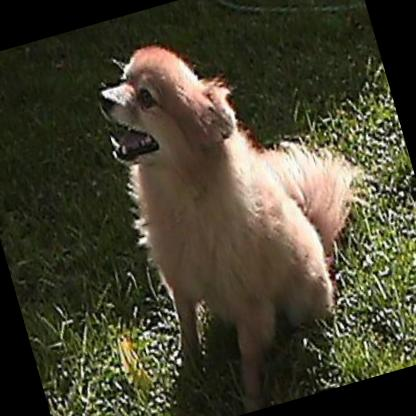Pomeranian: (68, 0, 416, 416)
